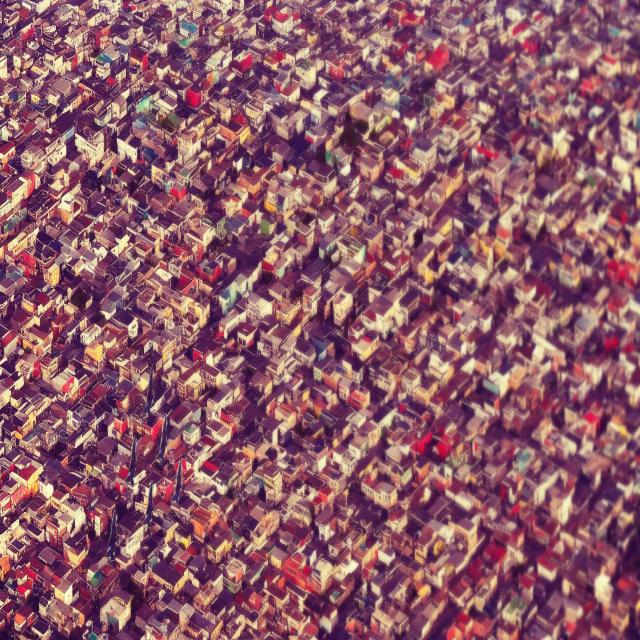airplane: (156, 408, 170, 467), (106, 510, 119, 562), (141, 366, 154, 416), (141, 482, 155, 526), (126, 438, 138, 486), (172, 460, 184, 504)
